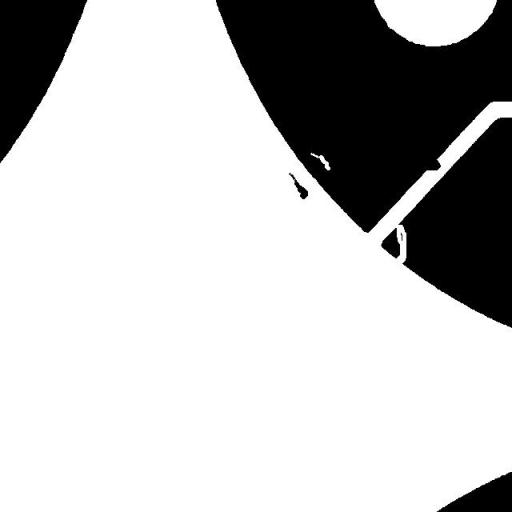copper: (281, 165, 315, 206)
open: (387, 216, 414, 272)
pin-hole: (302, 144, 338, 178)
spur: (417, 151, 448, 178)
